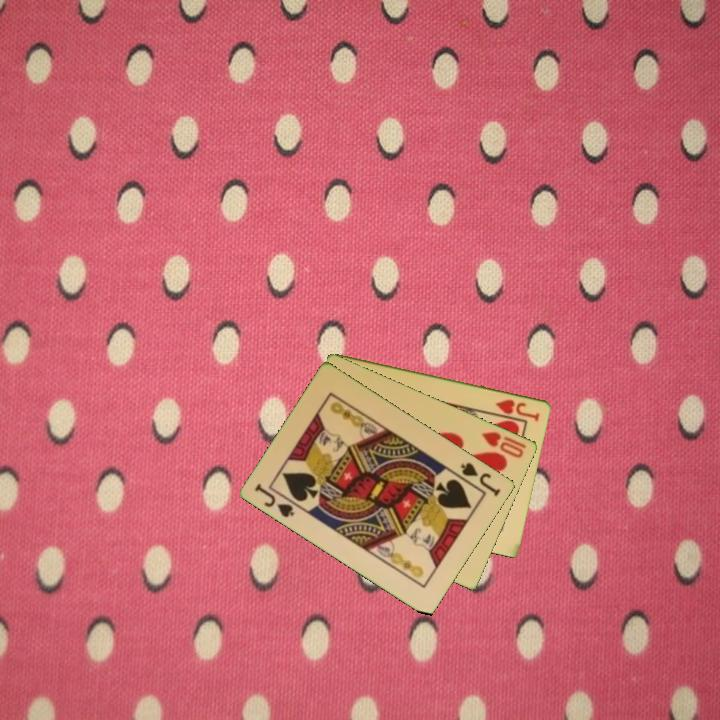10h: (479, 428, 530, 461)
Jh: (492, 395, 543, 424)
Js: (457, 459, 504, 499), (251, 480, 298, 520)
